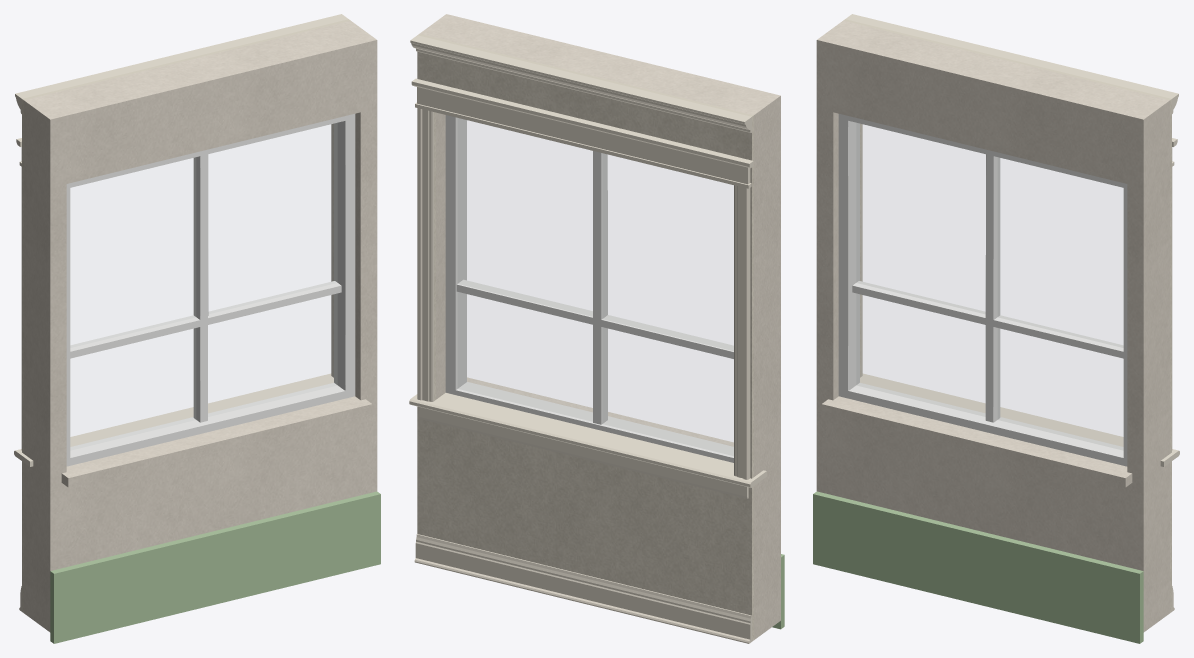
File: wall_ribbon.glb
3 views of the same model, side by side, from view 1: azimuth 30°, elevation 25°; view 2: azimuth 150°, elevation 25°; view 3: azimuth 330°, elevation 25° (orthographic). The views are drawn at different scales.
Parts seen in each view (by area): view 1: wall_ribbon_panel, wall_ribbon_glass, wall_ribbon_band, wall_ribbon_frame, molduras, wall_ribbon_plaster; view 2: wall_ribbon_glass, wall_ribbon_plaster, molduras, wall_ribbon_panel, wall_ribbon_frame; view 3: wall_ribbon_panel, wall_ribbon_glass, wall_ribbon_band, wall_ribbon_frame, molduras, wall_ribbon_plaster.
Part boxes in pixels (<box>): wall_ribbon_panel: <box>24,20,377,632</box>; wall_ribbon_glass: <box>71,123,336,449</box>; wall_ribbon_band: <box>50,491,380,643</box>; wall_ribbon_frame: <box>66,114,355,466</box>; molduras: <box>14,14,348,611</box>; wall_ribbon_plaster: <box>22,19,350,612</box>; wall_ribbon_glass: <box>458,118,733,455</box>; wall_ribbon_plaster: <box>417,34,753,641</box>; molduras: <box>409,35,766,643</box>; wall_ribbon_panel: <box>419,14,780,639</box>; wall_ribbon_frame: <box>445,115,733,462</box>; wall_ribbon_panel: <box>816,20,1169,632</box>; wall_ribbon_glass: <box>857,123,1122,449</box>; wall_ribbon_band: <box>813,491,1143,643</box>; wall_ribbon_frame: <box>838,114,1127,466</box>; molduras: <box>845,14,1179,611</box>; wall_ribbon_plaster: <box>843,19,1171,612</box>.
Bounding box in the file's own units: 2.04 × 3.05 × 0.445.
6 materials, 2 textured.
